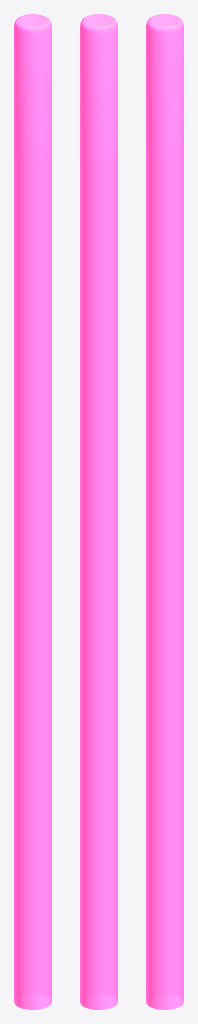
The model's file is лезвие 1.fbx.
The picture shows the model from 3 angles, left to right: view 1: azimuth 90°, elevation 25°; view 2: azimuth 150°, elevation 25°; view 3: azimuth 270°, elevation 25°; orthographic projection.
Visible parts, largest first — view 1: Cylinder.003; view 2: Cylinder.003; view 3: Cylinder.003.
Part boxes in pixels (x1=…): Cylinder.003: x1=14, y1=14, x2=51, y2=1009; Cylinder.003: x1=80, y1=14, x2=117, y2=1009; Cylinder.003: x1=146, y1=14, x2=183, y2=1009.
Size of the model in its own units: 2.44 by 70 by 2.44.
